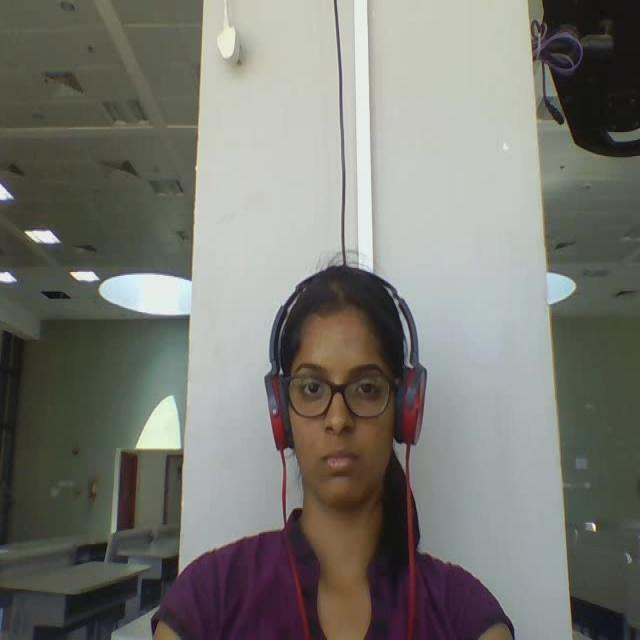Engaged: (239, 244, 450, 553)
